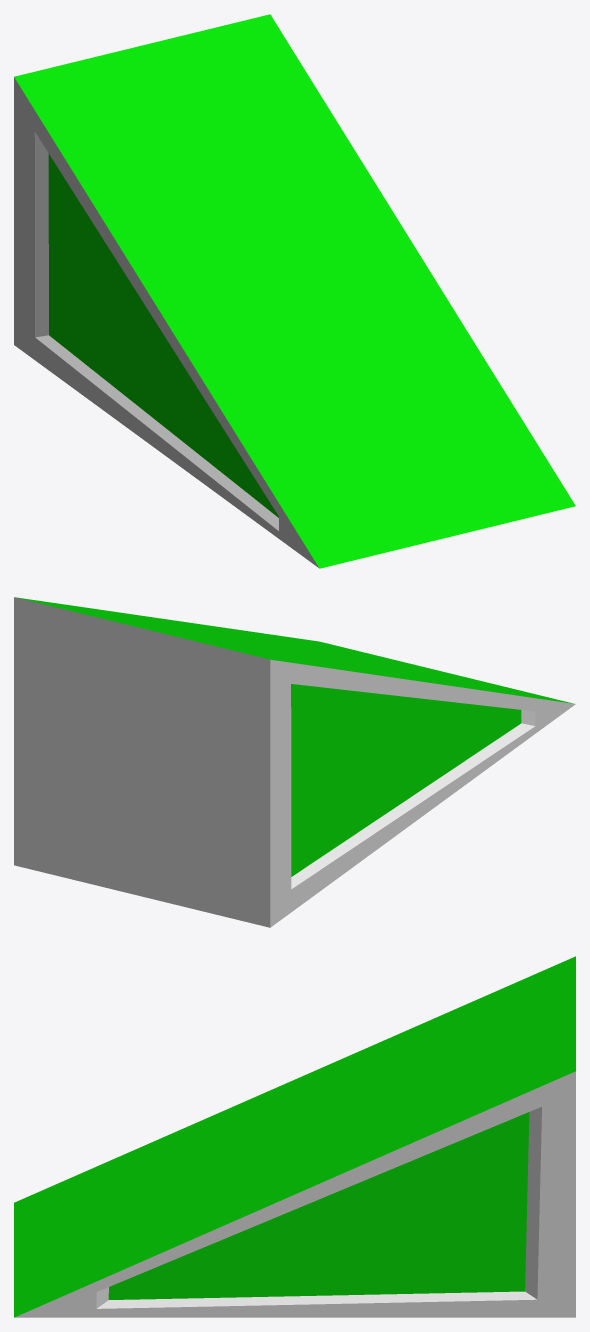
The model's file is Green slide.fbx.
3 renders of one model, top to bottom at view 1: azimuth 30°, elevation 25°; view 2: azimuth 150°, elevation 25°; view 3: azimuth 270°, elevation 25°, orthographic. The views are drawn at different scales.
Parts seen in each view (by area): view 1: pCube12; view 2: pCube12; view 3: pCube12.
Boxes of the visible parts, x1,y1,x2,y2 form: pCube12: [14, 14, 575, 568]; pCube12: [14, 597, 575, 927]; pCube12: [14, 956, 575, 1317].
Bounding box in the file's own units: 1 × 1 × 2.07.
